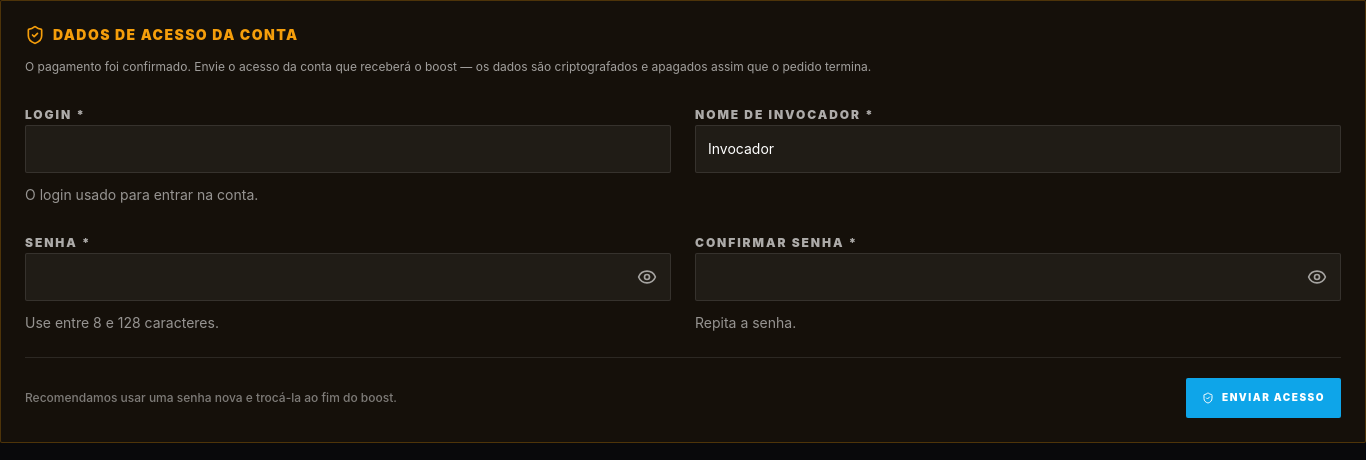
Scenario: OrderCredentialsCard › confirms the submission and announces failures
Type "senha-forte-1" into the password field labelled "Senha *" at (348, 276), box x1=25 y1=252 x2=671 y2=300
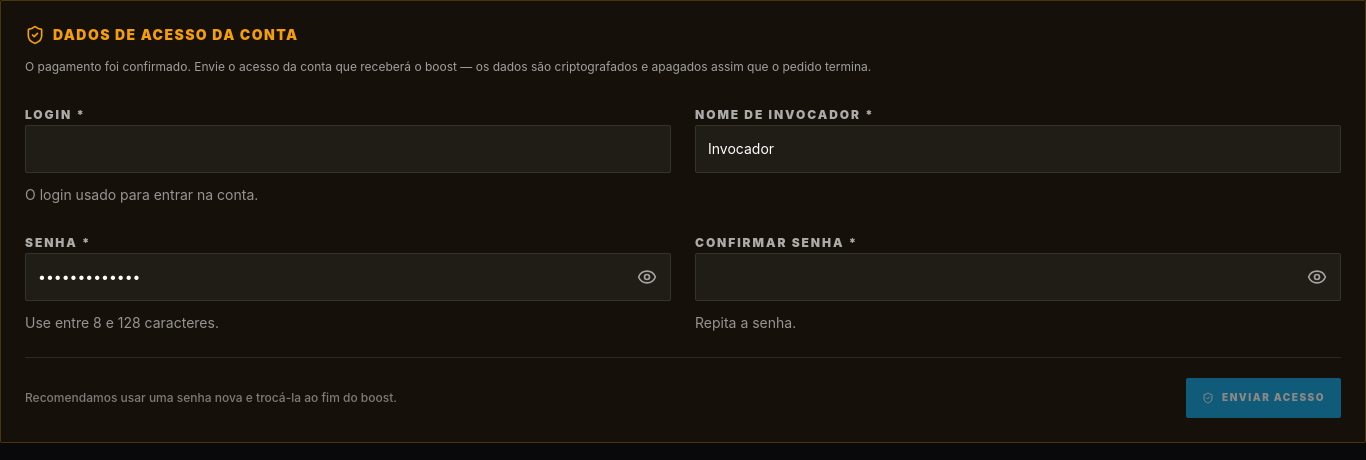
Type "senha-forte-1" into the password field labelled "Confirmar senha *" at (1018, 276), box x1=695 y1=252 x2=1341 y2=300
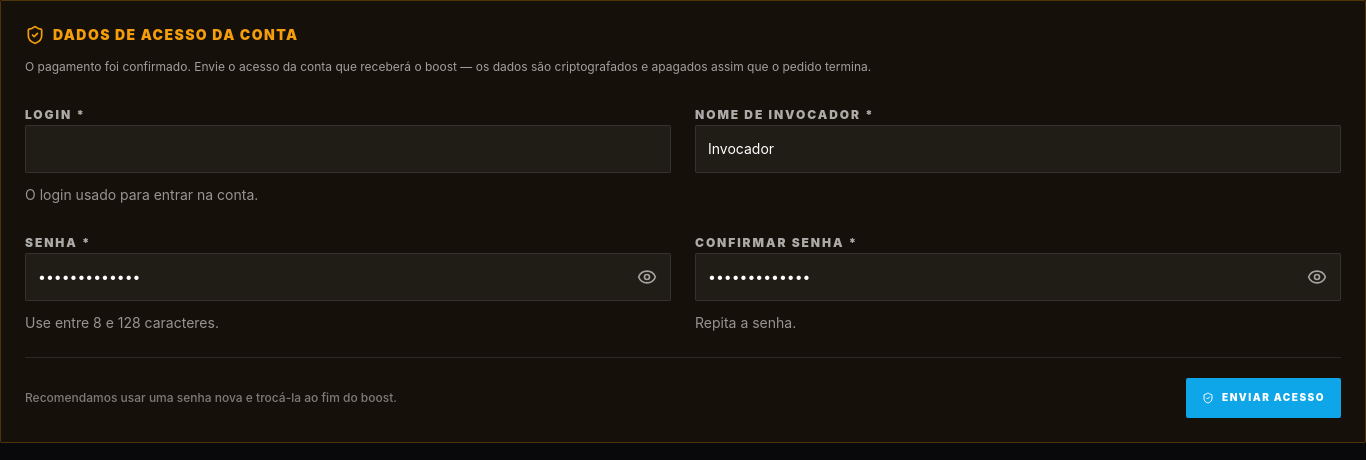
Submit the form named "Enviar acesso"
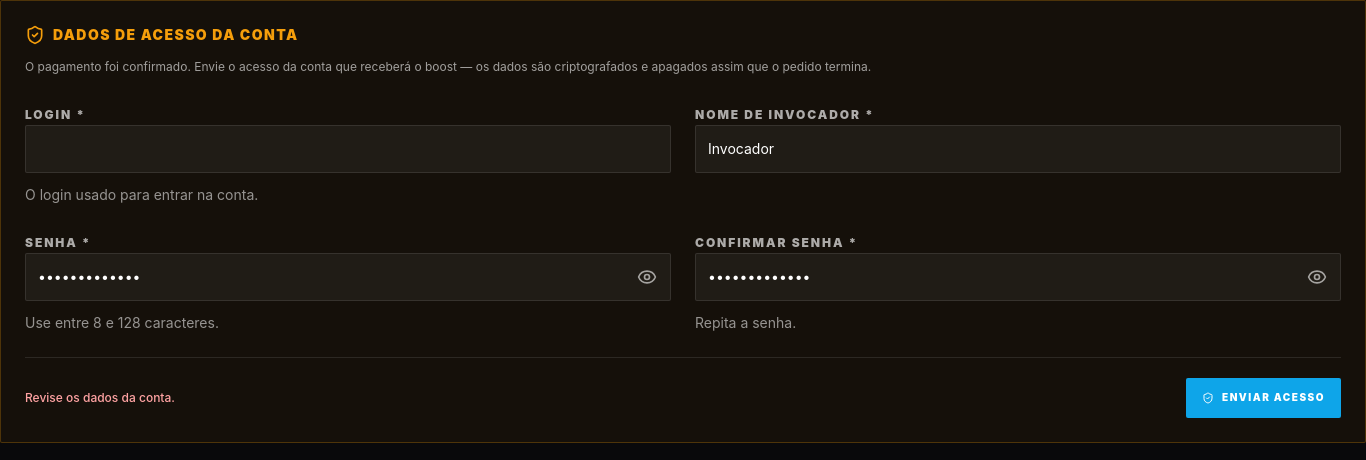
Now the message reads "Revise os dados da conta.", box x1=25 y1=390 x2=175 y2=404
Submit the form named "Enviar acesso"
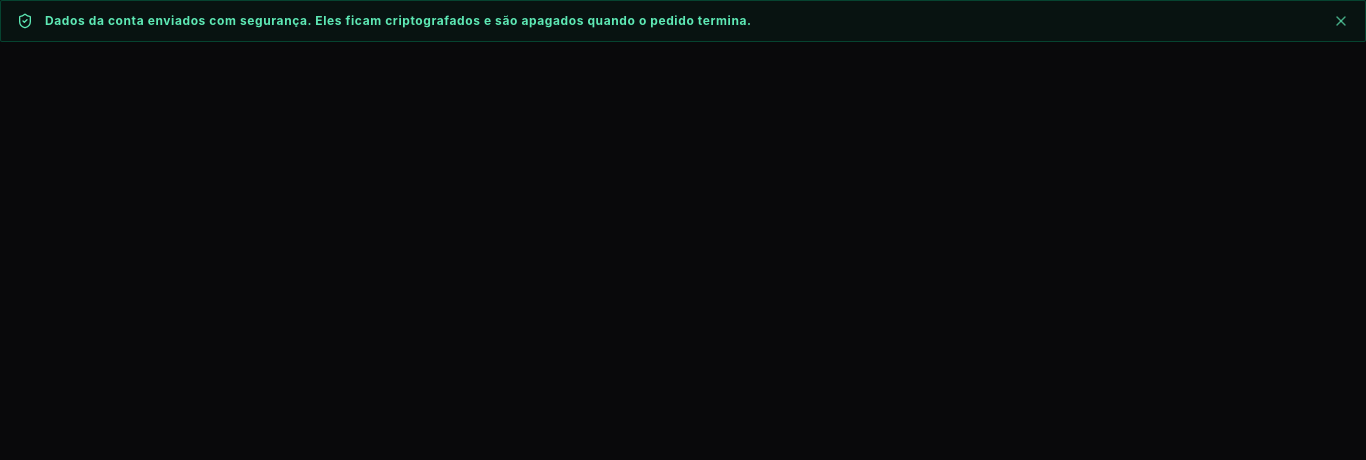
Now the text "enviados com segurança" is shown, box x1=45 y1=13 x2=752 y2=28
